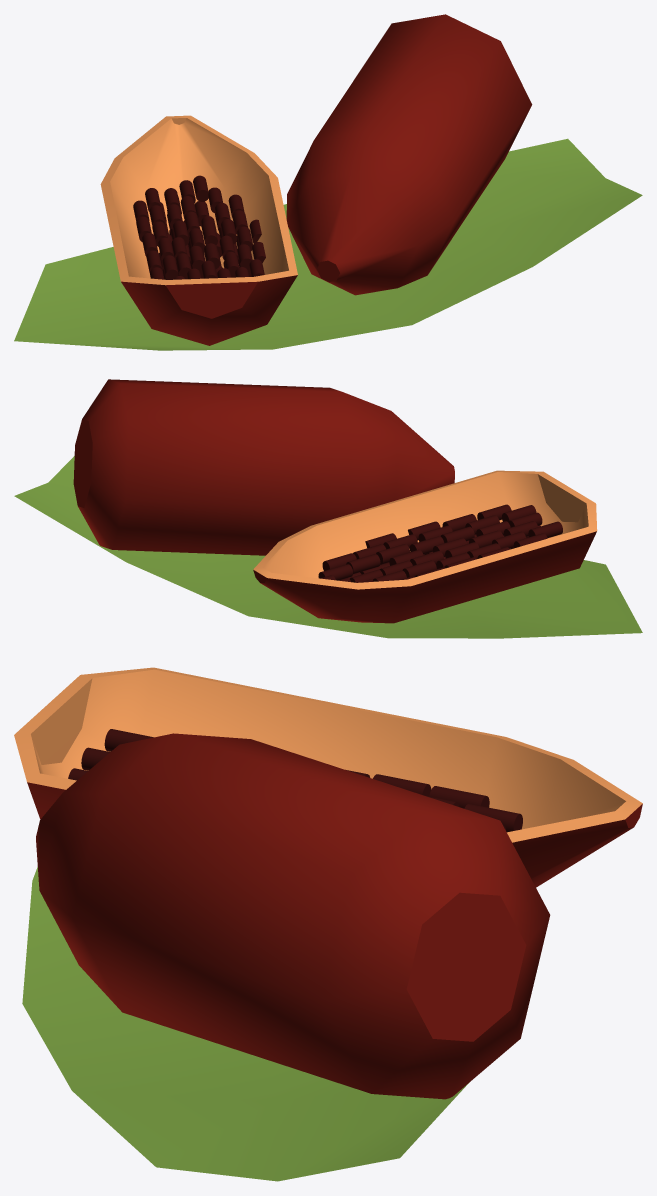
The model's file is CacaoCollectible 1.FBX.
The picture shows the model from 3 angles, top to bottom: view 1: azimuth 30°, elevation 25°; view 2: azimuth 150°, elevation 25°; view 3: azimuth 270°, elevation 25°; orthographic projection. The views are drawn at different scales.
Parts seen in each view (by area): view 1: CacaoCollectible; view 2: CacaoCollectible; view 3: CacaoCollectible.
Boxes of the visible parts, x1=… form: CacaoCollectible: x1=14, y1=14, x2=642, y2=350; CacaoCollectible: x1=14, y1=379, x2=642, y2=638; CacaoCollectible: x1=14, y1=667, x2=642, y2=1181.
Size of the model in its own units: 8.1 by 2.5 by 4.37.
